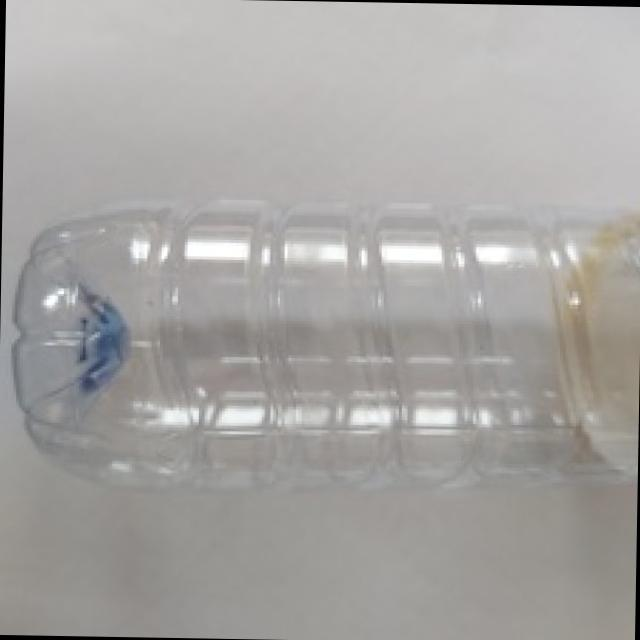good: (1, 194, 635, 508)
